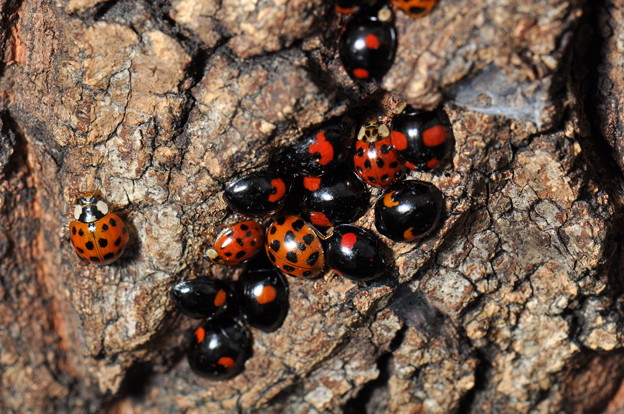red: (265, 210, 325, 279), (68, 195, 125, 267), (354, 120, 404, 185), (204, 220, 264, 268)
two_spots: (375, 181, 446, 243), (185, 317, 253, 381), (340, 14, 395, 84)
two_spots_mutant: (391, 108, 450, 173)
